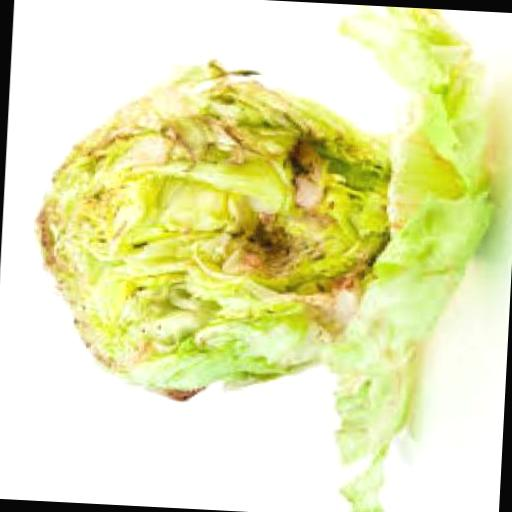biodegradable: (21, 56, 393, 416), (309, 5, 499, 512)
